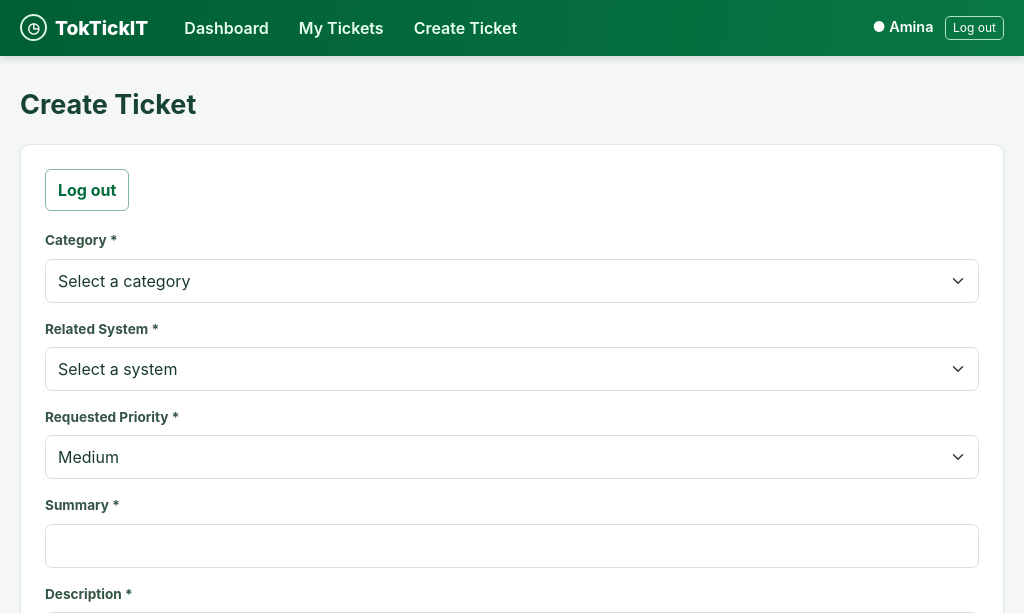
Test case: My Tickets › loads tickets for the authenticated requester
Click the button "My Tickets".
click(341, 28)  # box x1=287 y1=6 x2=396 y2=50
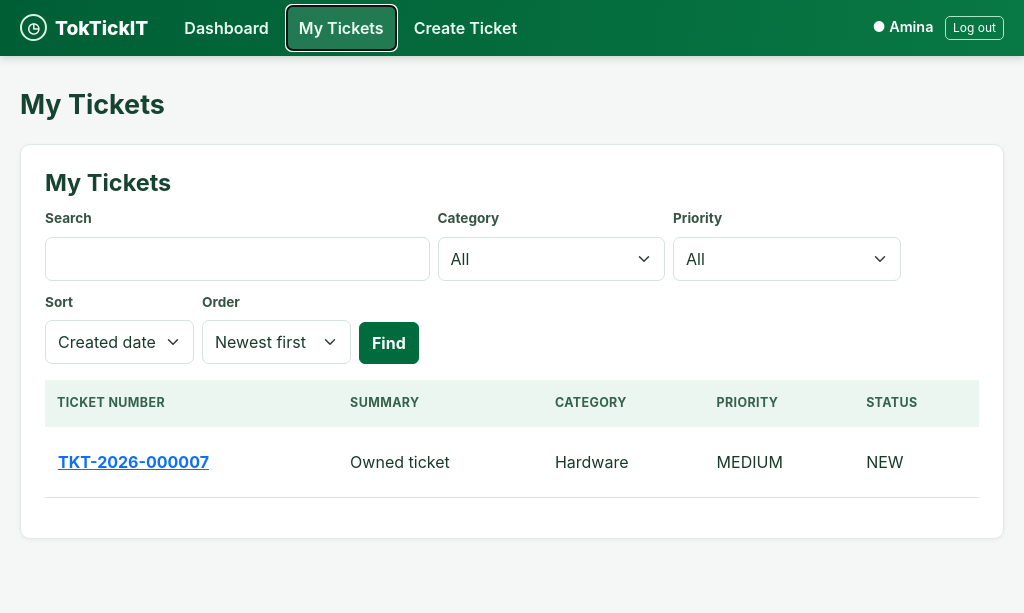
expect the text "Owned ticket" is shown: met, box x1=338 y1=427 x2=543 y2=498
